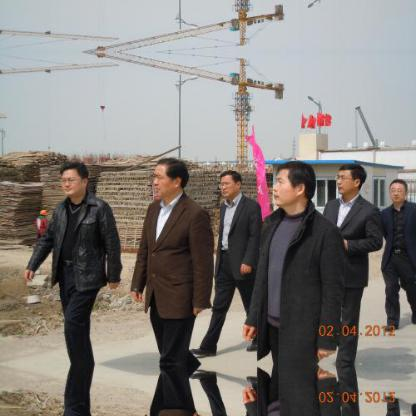No Helmet: (257, 145, 325, 219), (133, 150, 198, 203), (327, 152, 371, 203), (54, 158, 100, 202), (210, 166, 252, 208), (384, 170, 414, 212)
